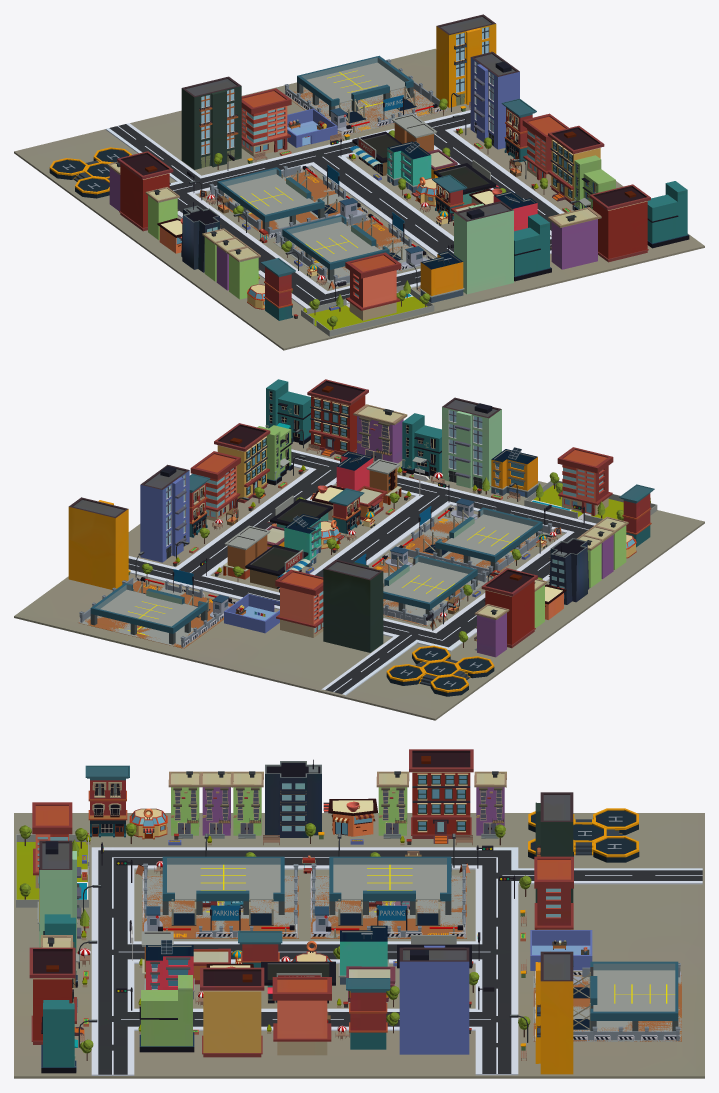
Rendered from final level 2 parking lott.fbx.
3 renders of one model, top to bottom at view 1: azimuth 30°, elevation 25°; view 2: azimuth 150°, elevation 25°; view 3: azimuth 270°, elevation 25°, orthographic. The views are drawn at different scales.
Visible parts, largest first — view 1: FLOOR, Road, Big building.003, Big building.002, Big building.004, upgrade parking floor 3, upgrade parking floor 1, Big building.001, red building.002, upgrade parking floor 2, building 3.001, building 3 (+32 smaller); view 2: FLOOR, Road, Big building.003, Big building.004, Big building.002, Big building.001, upgrade parking floor 3, upgrade parking floor 2, red building.002, upgrade parking floor 1, Cylinder, building 3.001 (+33 smaller); view 3: FLOOR, Road, Big building.001, upgrade parking floor 2, upgrade parking floor 1, red building.001, upgrade parking floor 3, red building, Big building.004, building 3.002, building 2, Blue building.002 (+34 smaller).
Part boxes in pixels (<box>): FLOOR: <box>14,48,704,350</box>; Road: <box>105,110,564,308</box>; Big building.003: <box>181,76,241,169</box>; Big building.002: <box>454,201,513,294</box>; Big building.004: <box>436,14,496,107</box>; upgrade parking floor 3: <box>297,55,413,116</box>; upgrade parking floor 1: <box>217,167,324,231</box>; Big building.001: <box>470,51,519,149</box>; red building.002: <box>589,184,650,262</box>; upgrade parking floor 2: <box>282,215,389,280</box>; building 3.001: <box>345,252,401,320</box>; building 3: <box>241,88,291,156</box>; FLOOR: <box>14,440,704,720</box>; Road: <box>128,449,596,695</box>; Big building.003: <box>323,559,383,652</box>; Big building.004: <box>68,497,128,589</box>; Big building.002: <box>442,397,501,490</box>; Big building.001: <box>140,464,189,562</box>; upgrade parking floor 3: <box>90,583,207,644</box>; upgrade parking floor 2: <box>435,507,542,571</box>; red building.002: <box>307,379,368,456</box>; upgrade parking floor 1: <box>383,555,477,620</box>; Cylinder: <box>386,645,494,696</box>; building 3.001: <box>557,447,613,515</box>; FLOOR: <box>14,813,704,1078</box>; Road: <box>91,847,702,1075</box>; Big building.001: <box>399,945,469,1054</box>; upgrade parking floor 2: <box>162,856,284,914</box>; upgrade parking floor 1: <box>329,856,451,914</box>; red building.001: <box>200,967,264,1057</box>; upgrade parking floor 3: <box>590,961,678,1031</box>; red building: <box>409,749,473,843</box>; Big building.004: <box>535,951,573,1074</box>; building 3.002: <box>272,977,331,1055</box>; building 2: <box>265,759,321,837</box>; Blue building.002: <box>139,975,194,1052</box>.
Bounding box in the file's own units: 117 × 20.46 × 129.
